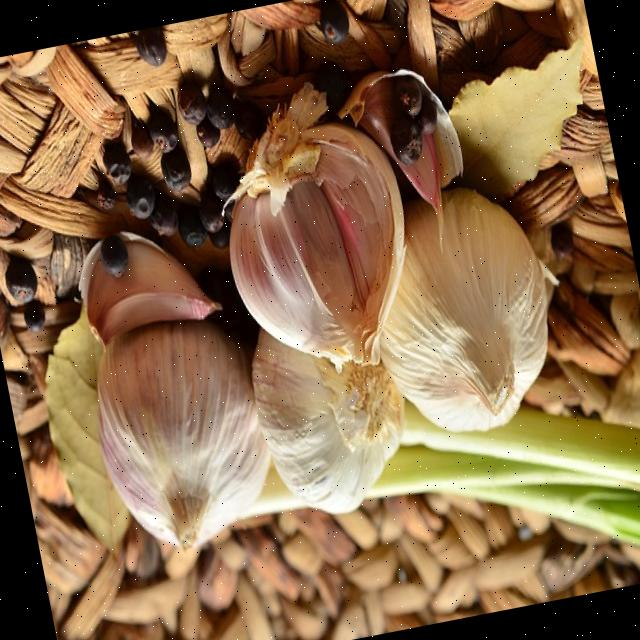garlic: (229, 83, 404, 366), (379, 190, 546, 432), (96, 319, 268, 547), (251, 332, 403, 513), (87, 241, 219, 346)
